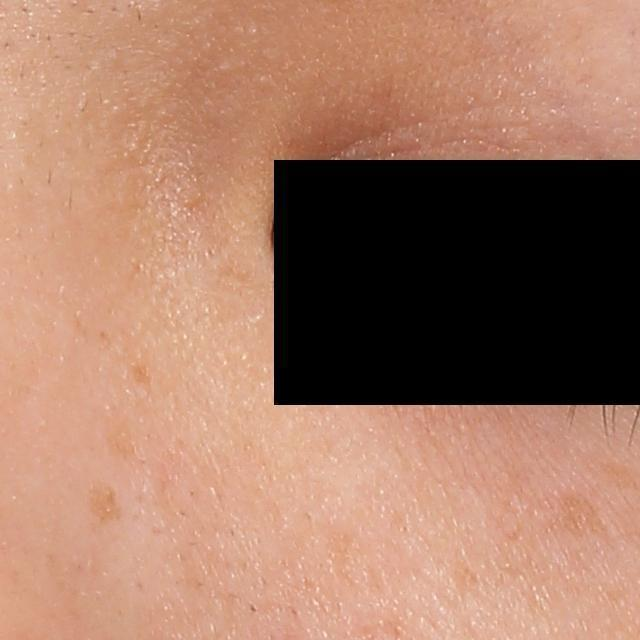melasma: (558, 488, 611, 540), (85, 479, 123, 525), (129, 363, 153, 390)
